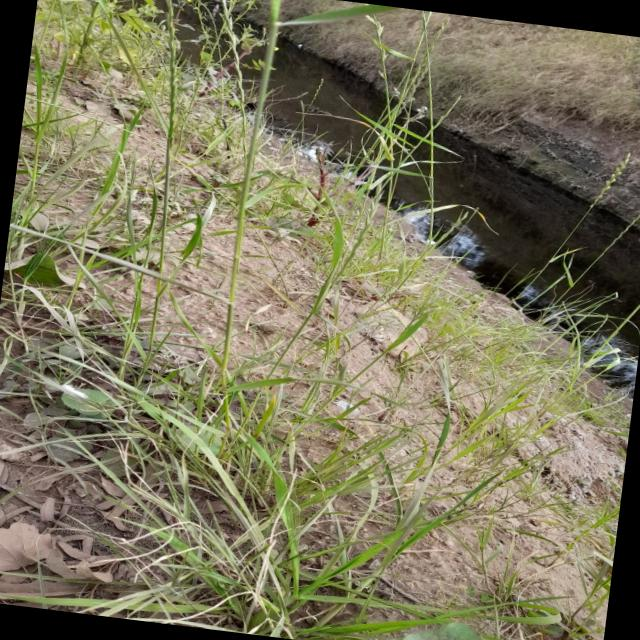Lolium: (190, 0, 263, 126), (592, 150, 634, 208), (361, 16, 397, 82)
